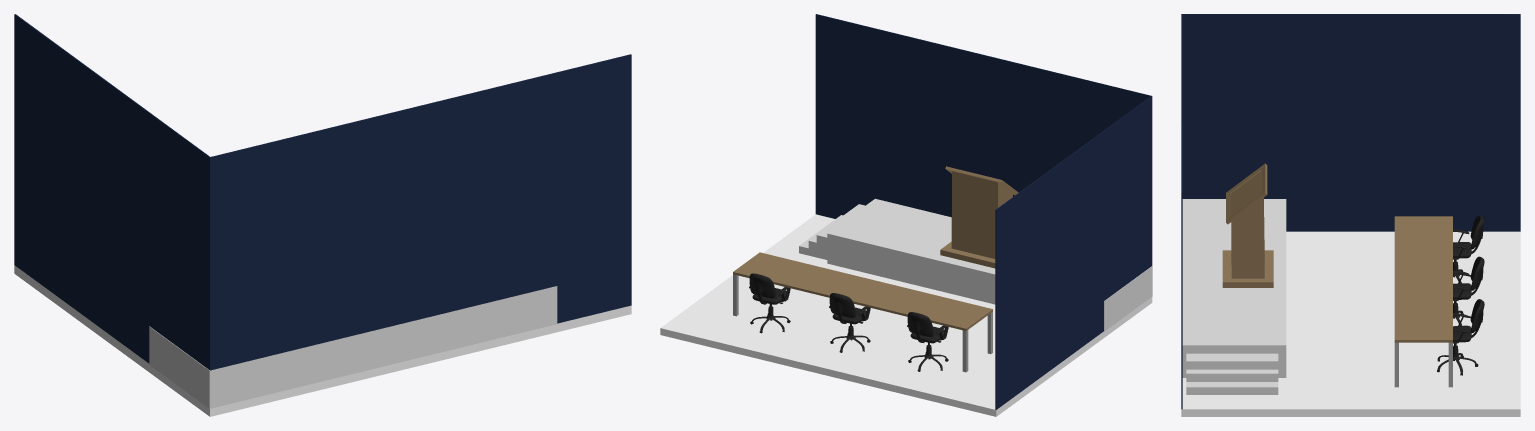
The model's file is MaquetaRPA.fbx.
3 views of the same model, side by side, from view 1: azimuth 30°, elevation 25°; view 2: azimuth 150°, elevation 25°; view 3: azimuth 270°, elevation 25° (orthographic). The views are drawn at different scales.
Parts seen in each view (by area): view 1: Cube.022, Cube, Cube.017; view 2: Cube.022, Cube.017, Cube, Cube.020, Cube.018, Cube.019, Chair.003, Chair.005, Chair.004; view 3: Cube.022, Cube.017, Cube, Cube.020, Cube.019, Cube.018, Chair.004, Chair.003, Chair.005.
Part boxes in pixels (box(x1,y1,x2,y2)): Cube.022: box(14, 14, 631, 370); Cube: box(149, 286, 557, 408); Cube.017: box(14, 265, 631, 416); Cube.022: box(815, 14, 1152, 409); Cube.017: box(660, 214, 1152, 416); Cube: box(799, 198, 1152, 331); Cube.020: box(940, 166, 1018, 268); Cube.018: box(851, 281, 992, 372); Cube.019: box(733, 252, 876, 316); Chair.003: box(907, 312, 948, 371); Chair.005: box(829, 293, 870, 352); Chair.004: box(749, 273, 790, 333); Cube.022: box(1181, 14, 1520, 409); Cube.017: box(1181, 231, 1520, 416); Cube: box(1182, 199, 1286, 394); Cube.020: box(1222, 163, 1273, 287); Cube.019: box(1394, 277, 1452, 387); Cube.018: box(1394, 216, 1452, 277); Chair.004: box(1437, 299, 1484, 375); Chair.003: box(1453, 215, 1484, 283); Chair.005: box(1453, 256, 1484, 325).
Size of the model in its own units: 571 by 336 by 459.
